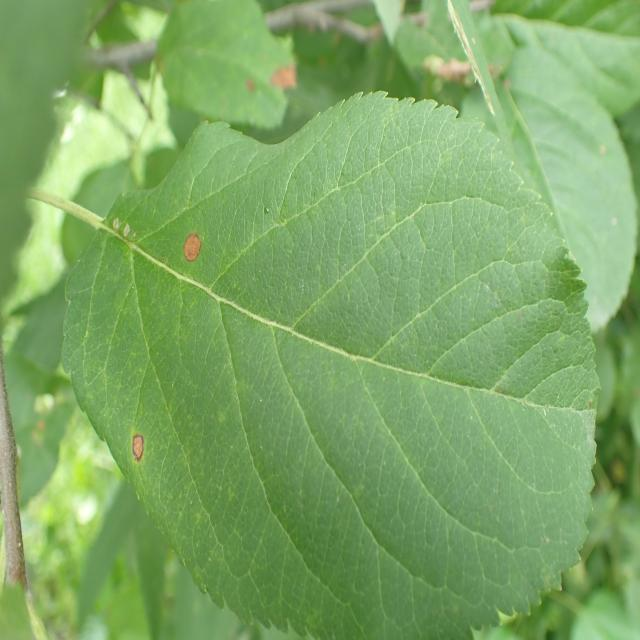Black Rot: (114, 418, 151, 502), (176, 215, 206, 287), (266, 46, 302, 105)
